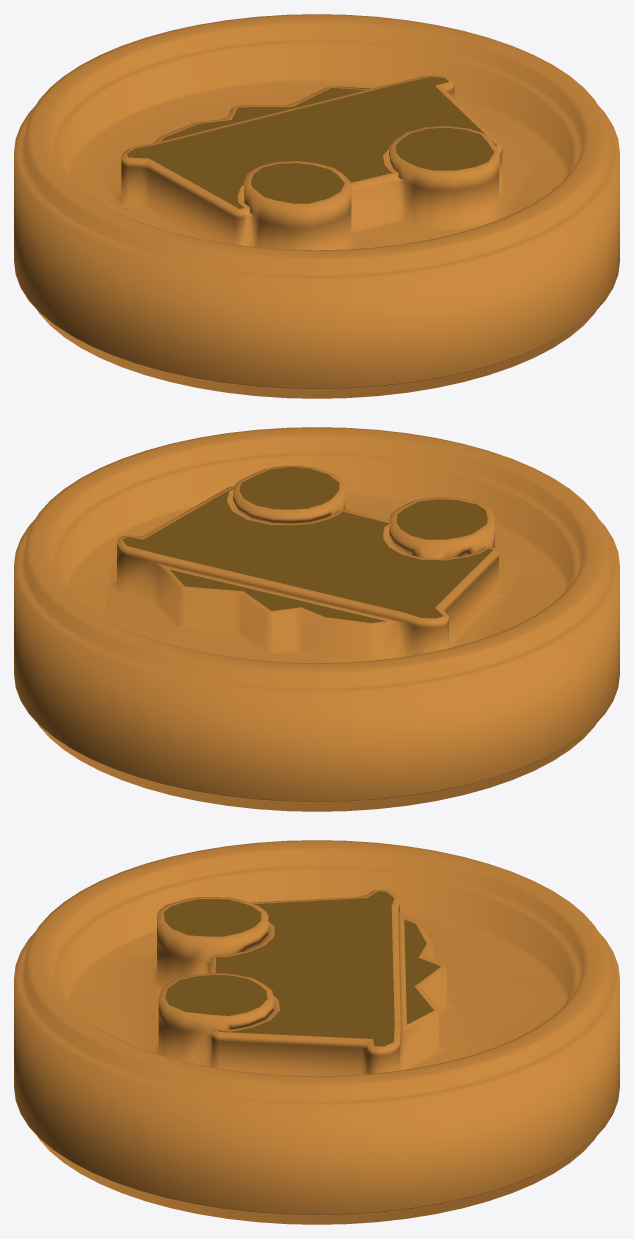
File: coin-cart.fbx
The picture shows the model from 3 angles, top to bottom: view 1: azimuth 30°, elevation 25°; view 2: azimuth 150°, elevation 25°; view 3: azimuth 270°, elevation 25°; orthographic projection.
Parts seen in each view (by area): view 1: Cylinder.002; view 2: Cylinder.002; view 3: Cylinder.002.
Part boxes in pixels (x1,y1,x2,y2): Cylinder.002: (14, 14, 619, 398); Cylinder.002: (14, 427, 619, 811); Cylinder.002: (14, 840, 619, 1224).
Bounding box in the file's own units: 200 × 54.37 × 200.
